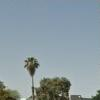Tree: (22, 49, 69, 99)
